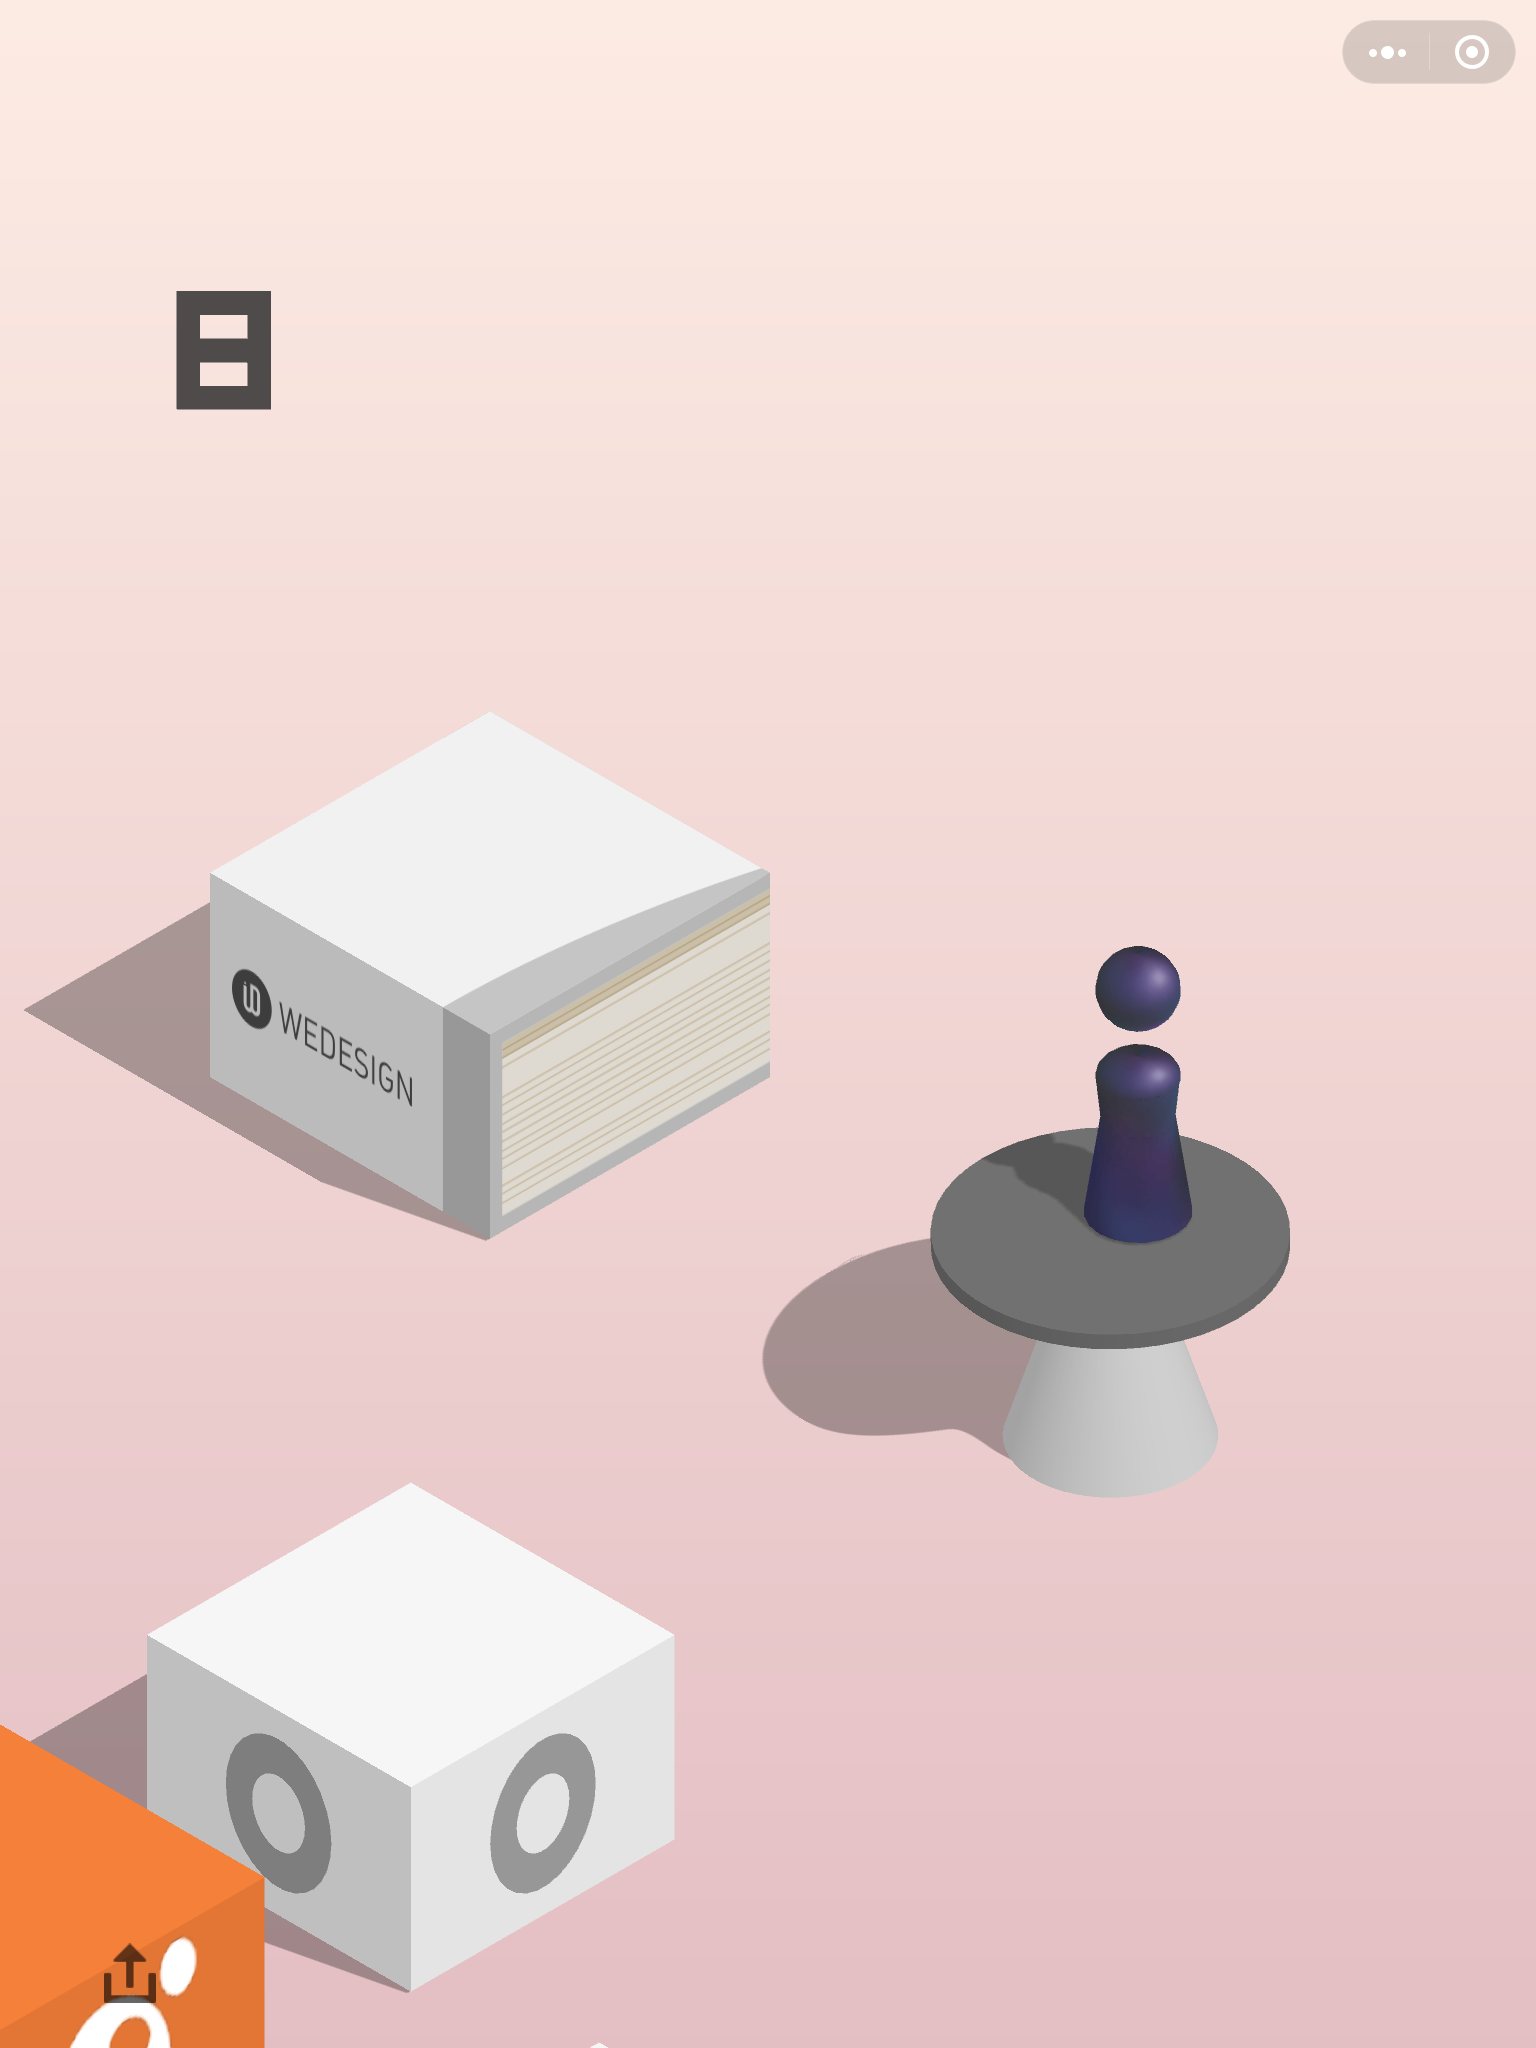c: (928, 1122, 1296, 1501)
f: (202, 705, 778, 1247), (140, 1477, 682, 1996), (2, 1705, 269, 2048)
r: (1081, 942, 1200, 1248)
